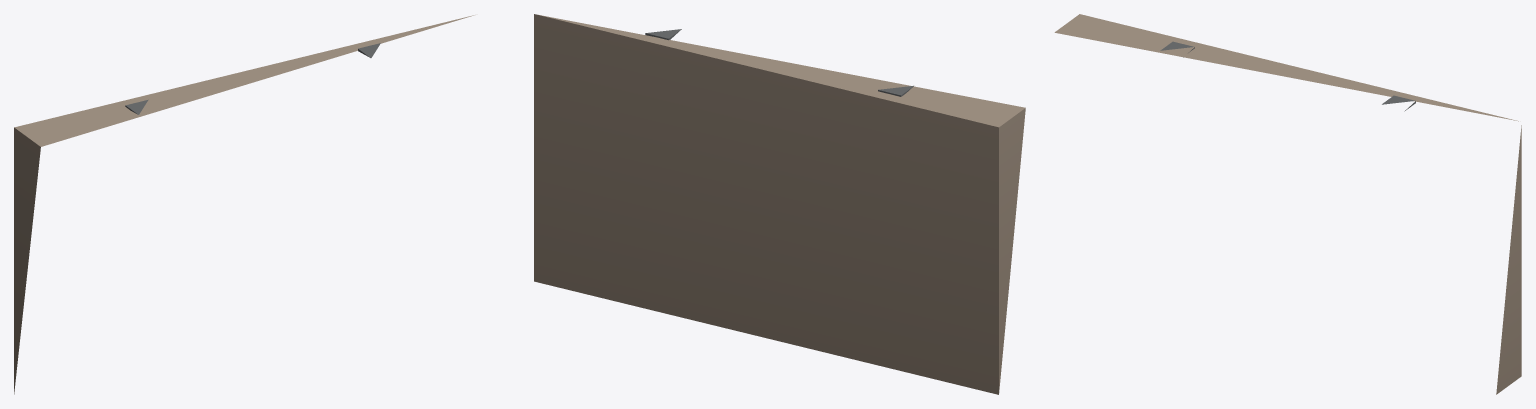
The model's file is halfWall_regocrete_meshin.glb.
The picture shows the model from 3 angles, left to right: view 1: azimuth 30°, elevation 25°; view 2: azimuth 150°, elevation 25°; view 3: azimuth 330°, elevation 25°; orthographic projection. The views are drawn at different scales.
Parts seen in each view (by area): view 1: halfWall_regocrete_meshin; view 2: halfWall_regocrete_meshin; view 3: halfWall_regocrete_meshin.
Part boxes in pixels (x1=…): halfWall_regocrete_meshin: x1=14, y1=15, x2=474, y2=394; halfWall_regocrete_meshin: x1=534, y1=14, x2=1025, y2=394; halfWall_regocrete_meshin: x1=1054, y1=14, x2=1521, y2=394.
Size of the model in its own units: 2 by 1.11 by 0.2.
